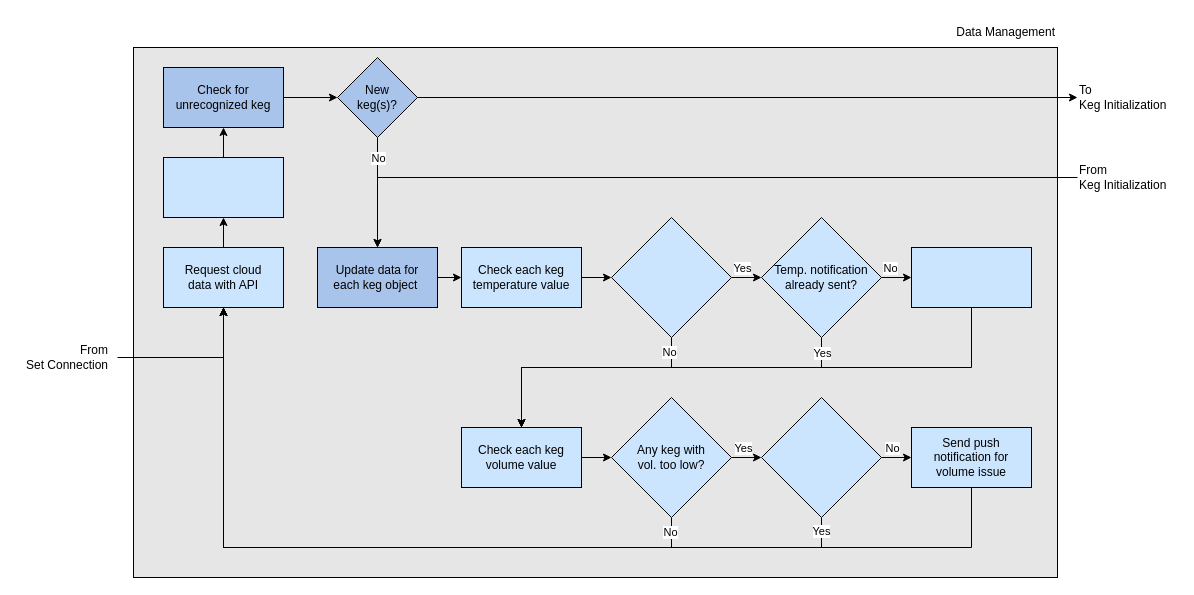
This 1194x595 diagram has some shape labels left out. Each missing label, with the centre of its shape:
"Any keg with temp. too high?" belongs at (x=671, y=277).
"Receive cloud data with API" belongs at (x=223, y=187).
"Send push notification for temperature issue" belongs at (x=971, y=277).
"Vol. notification already sent?" belongs at (x=821, y=457).
